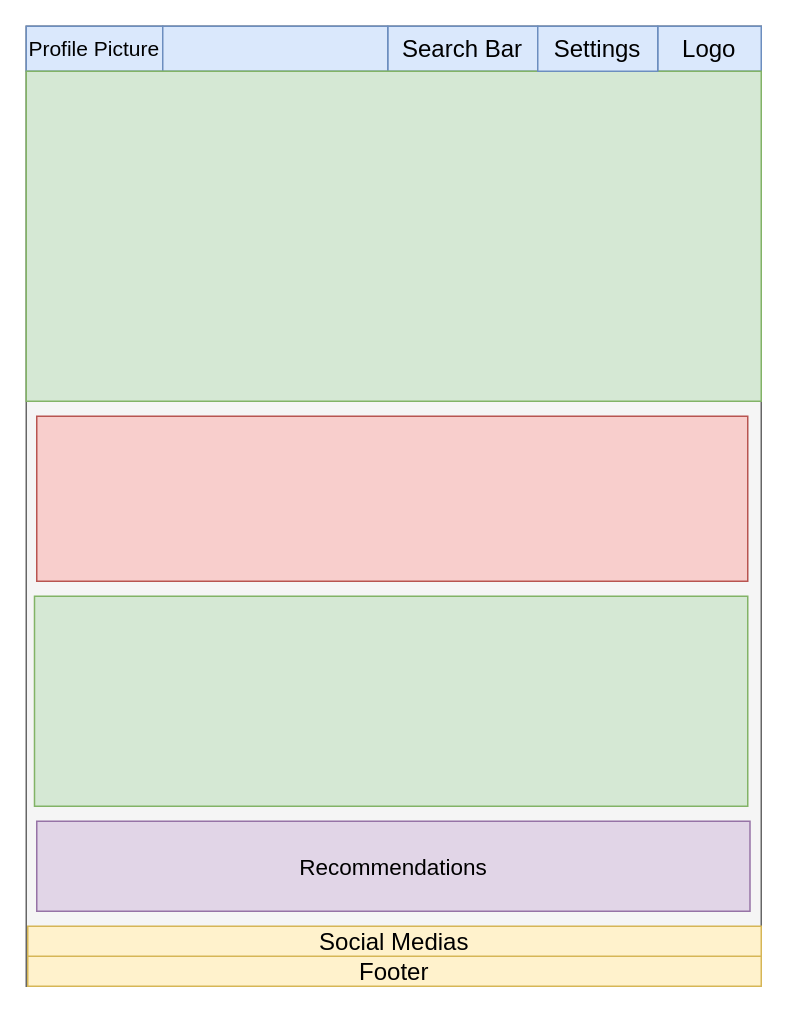
The diagram is 788 pixels wide and 1013 high, and some of its shapes have lost their labels. The centre of each missing label's shape, as x and y in pixels:
"Description" goes at pixel 391 498.
"Episodes" goes at pixel 390 700.
"Site Name" goes at pixel 274 48.
"Video" goes at pixel 393 235.
